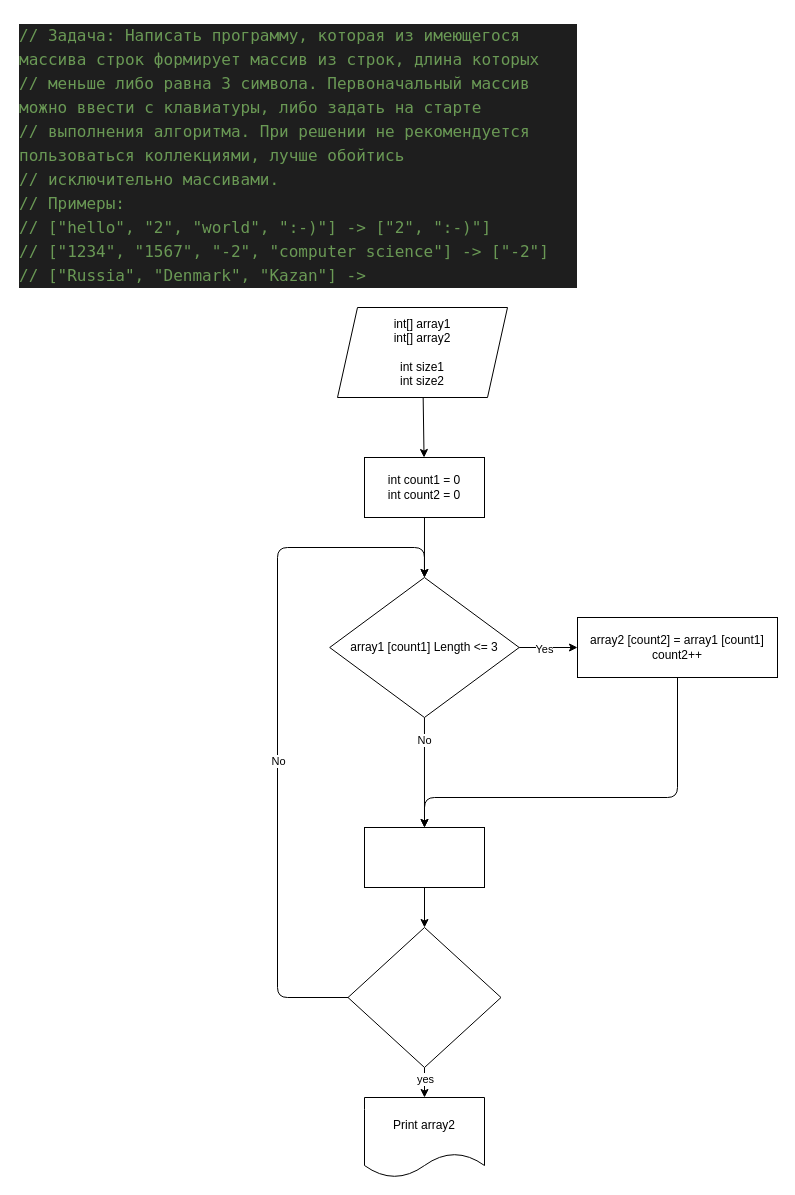
Some shapes in this 795 by 1195 pixel diagram are drawn without their labels. The centre of each missing label's shape, as x and y in pixels:
count1 > size1: point 424,997
count1++: point 424,857
